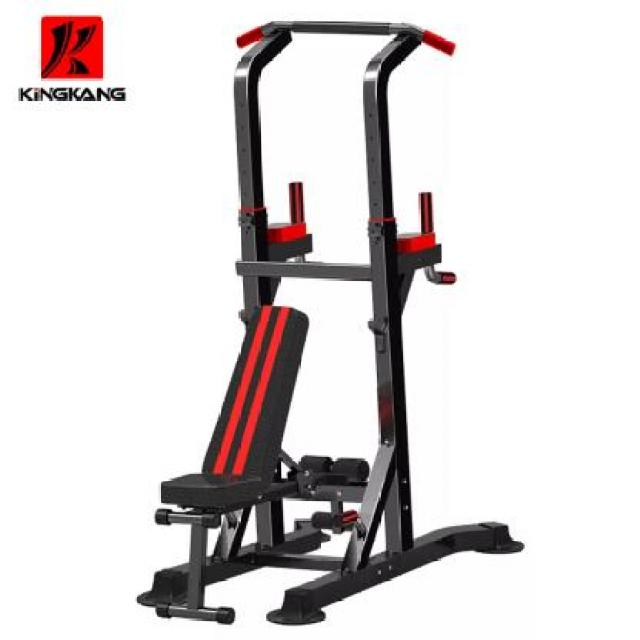chinning dipping: (232, 20, 523, 622)
